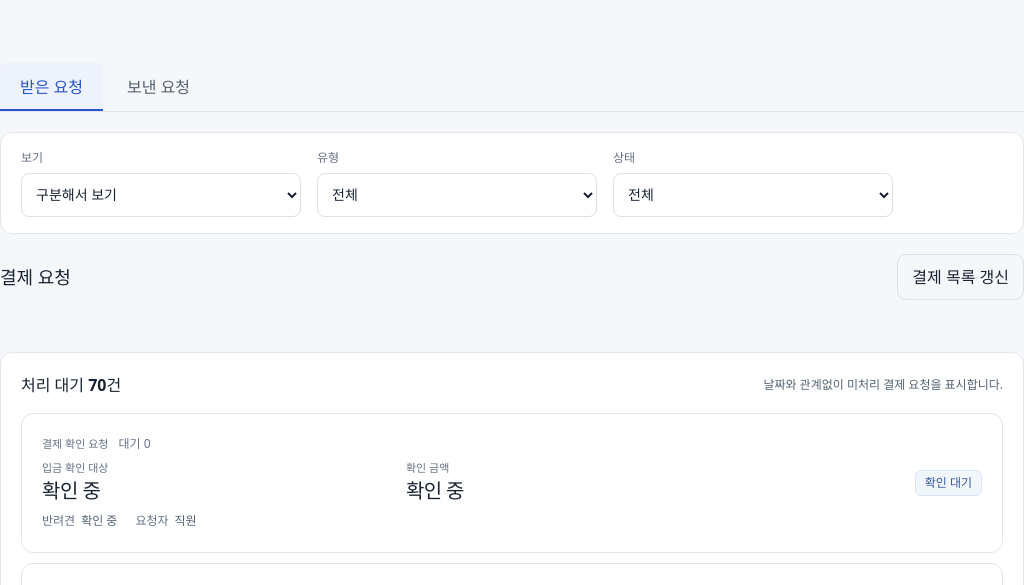
Test: explicit filters persist in date view without falling back to mixed list
Expected: the heading "처리 대기 70건" is shown, x1=21 y1=372 x2=121 y2=396
Select "처리됨" in the dropdown labelled "상태". click: (753, 194)
box: x1=613 y1=172 x2=893 y2=216
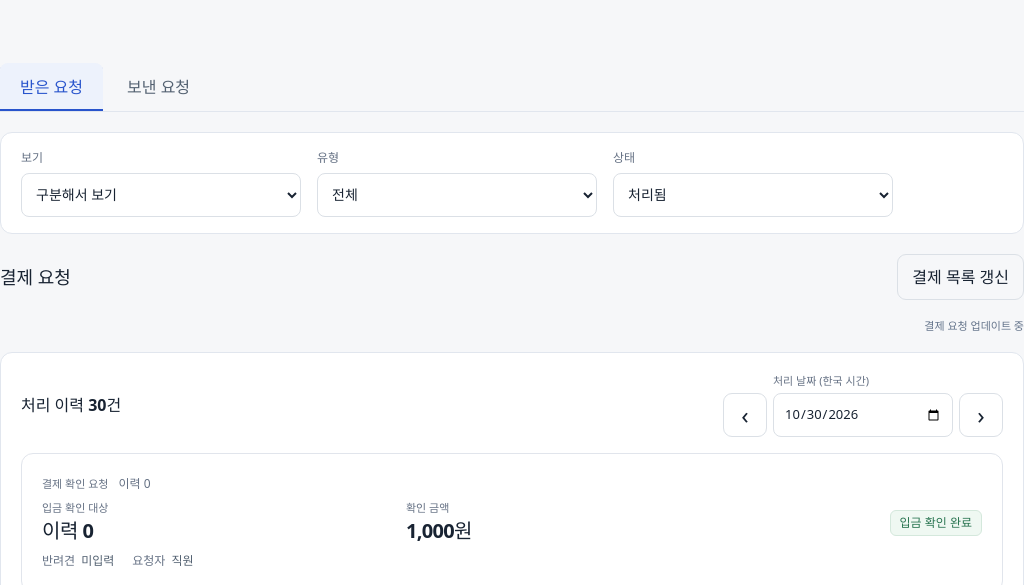
Result: the heading "처리 대기" is gone
Select "미처리" in the dropdown labelled "상태". click: (753, 194)
box: x1=613 y1=172 x2=893 y2=216
(page scrolled)
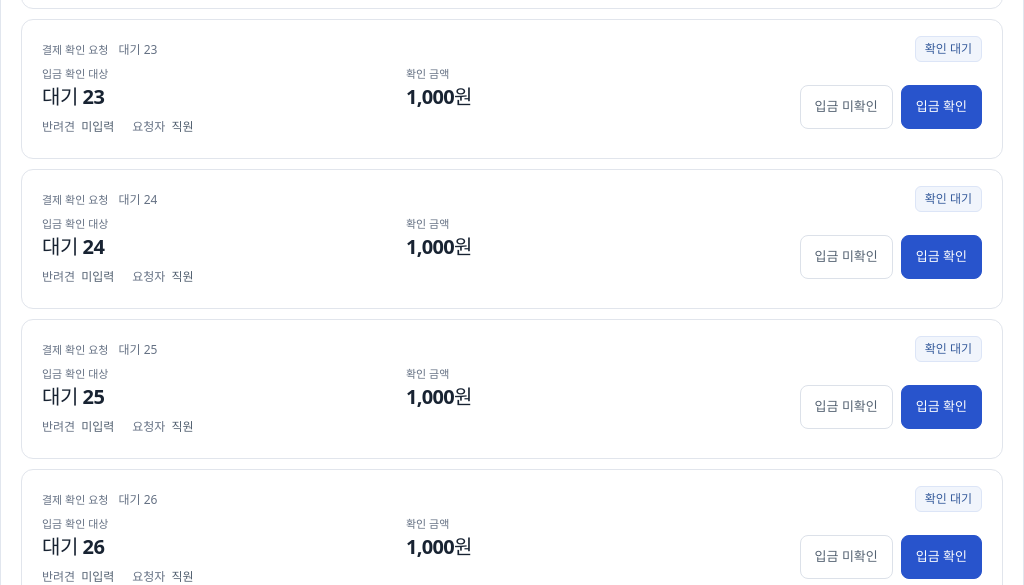
Result: the heading "처리 이력" is gone
